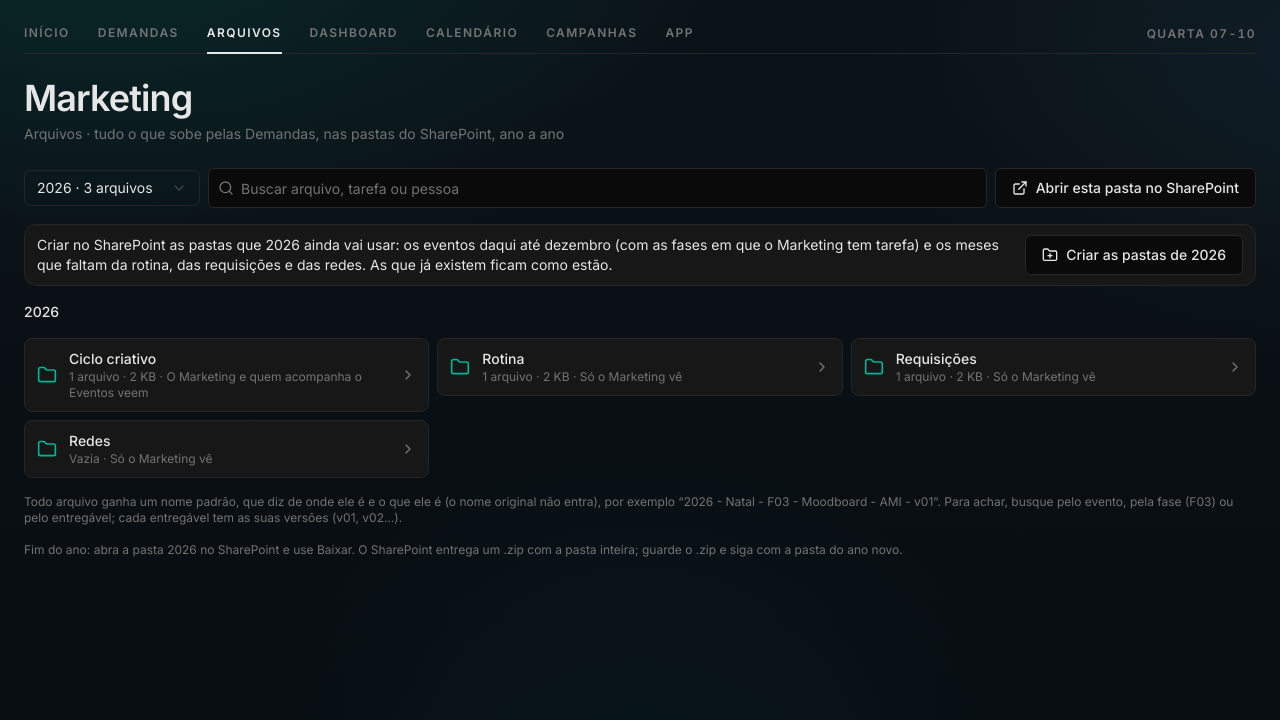
a página › o líder cria as pastas do ano: a tela pede lote a lote até acabar e diz o resultado
Click the button "Criar as pastas de 2026" at (1134, 255), box [1025,235,1243,275]
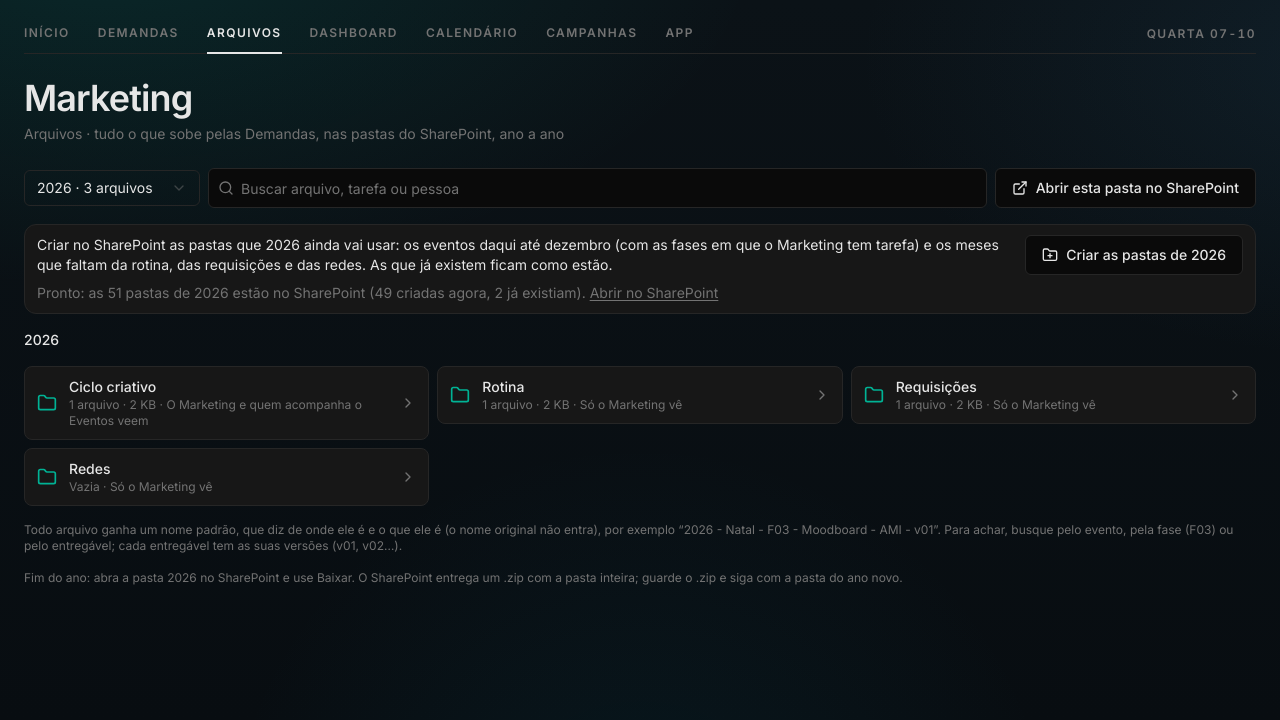
Check: the text "Pronto: as 51 pastas de 2026 estão no SharePoint" shows "49 criadas agora, 2 já existiam", box [37,284,718,301]
